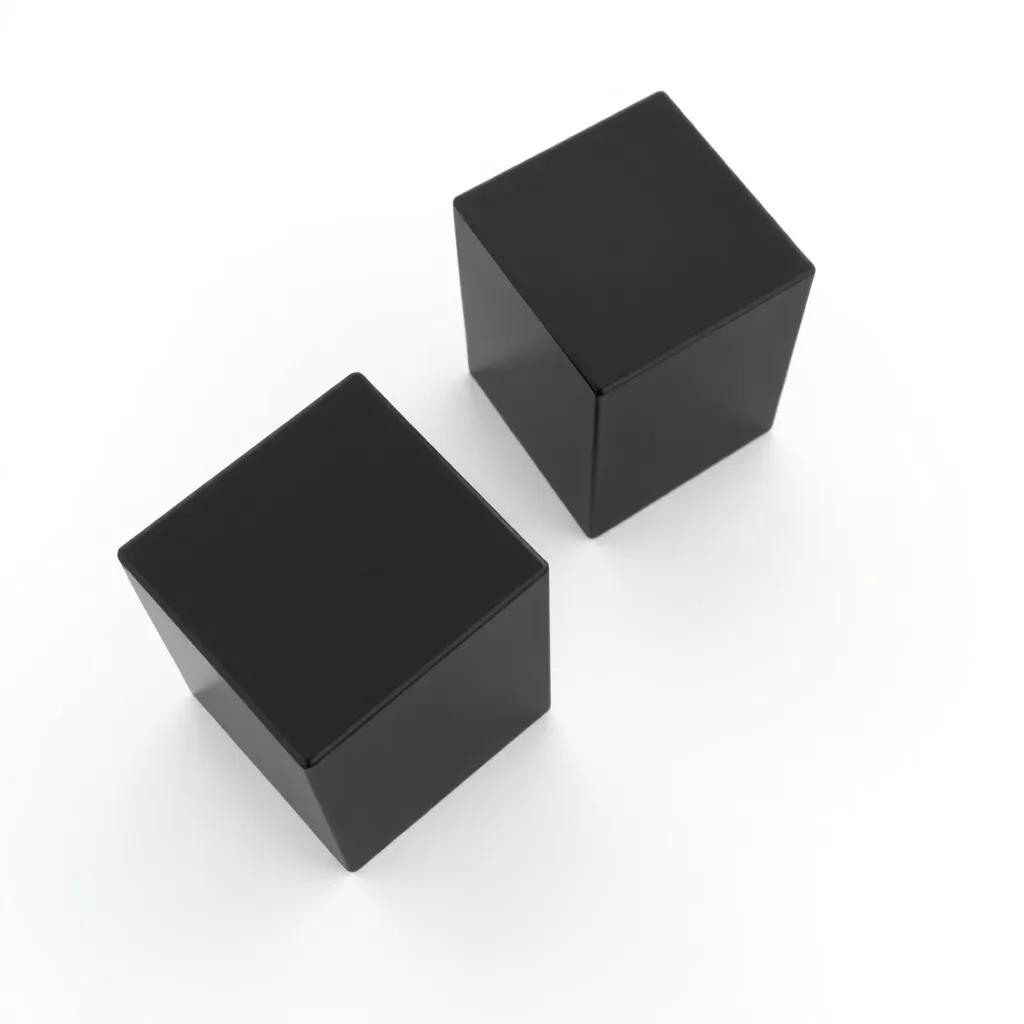cube: (116, 369, 551, 871), (451, 88, 816, 538)
